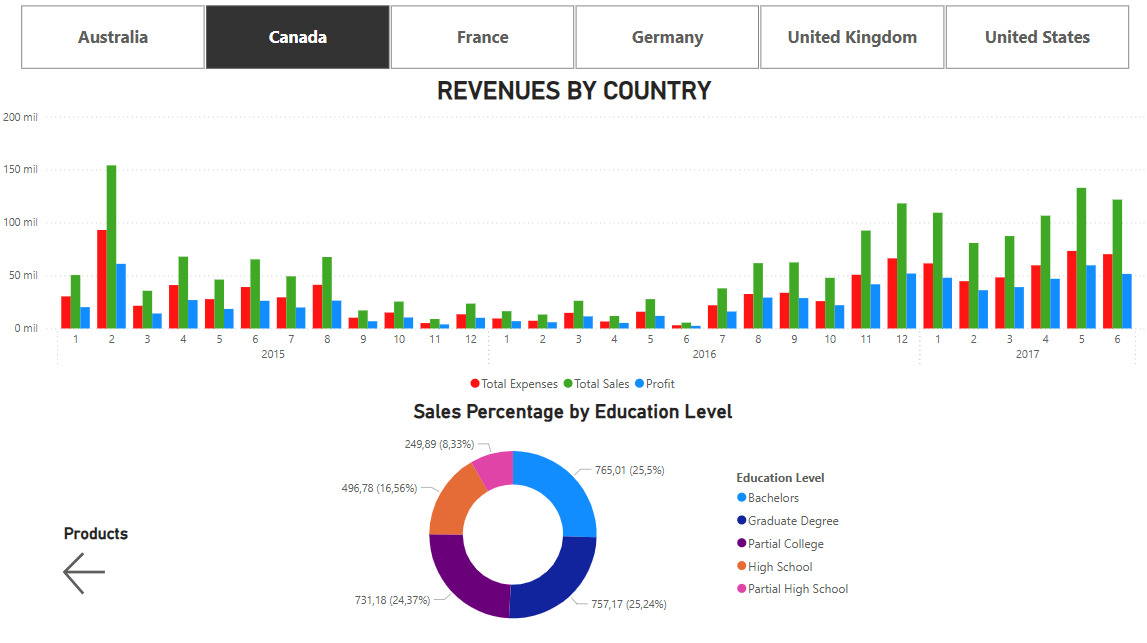

What the dashboard file says about the page in this screenshot:
{"tool":"powerbi","page":{"name":"Countries","canvas":[1280,720],"ordinal":1},"visuals":[{"type":"clusteredColumnChart","title":"REVENUES BY COUNTRY","fields":{"Category":["ByCountry.Year","ByCountry.Month"],"Y":["Sum(ByCountry.TotalExpenses)","Sum(ByCountry.TotalSales)","Sum(ByCountry.Profit)"]},"box":[0,84.3,1280.4,361.1],"z":0},{"type":"slicer","fields":{"Values":["ByCountry.Country"]},"box":[0,0,1280.4,84.3],"z":1000},{"type":"donutChart","title":"Sales Percentage by Education Level","fields":{"Category":["ByEducation.EducationLevel"],"Y":["Sum(ByEducation.SalesPercentage)"]},"box":[318.1,445.4,641,275.2],"z":2000},{"type":"actionButton","title":"Products","box":[66.8,583.8,84.3,84.3],"z":2001}]}

Visuals, with their boxes in screenshot pixels (x1, y1, x2, y2), scaled from the page's 1280x720 canvas onto the 1147x643 screenshot:
"REVENUES BY COUNTRY" clusteredColumnChart: region(0, 75, 1146, 398)
slicer - ByCountry.Country: region(0, 0, 1146, 75)
"Sales Percentage by Education Level" donutChart: region(285, 398, 859, 642)
"Products" actionButton: region(60, 521, 135, 597)
